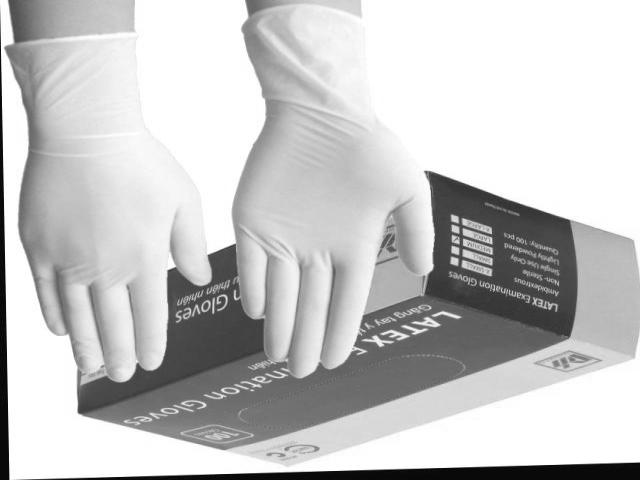gloved: (230, 103, 437, 379), (14, 113, 212, 383)
